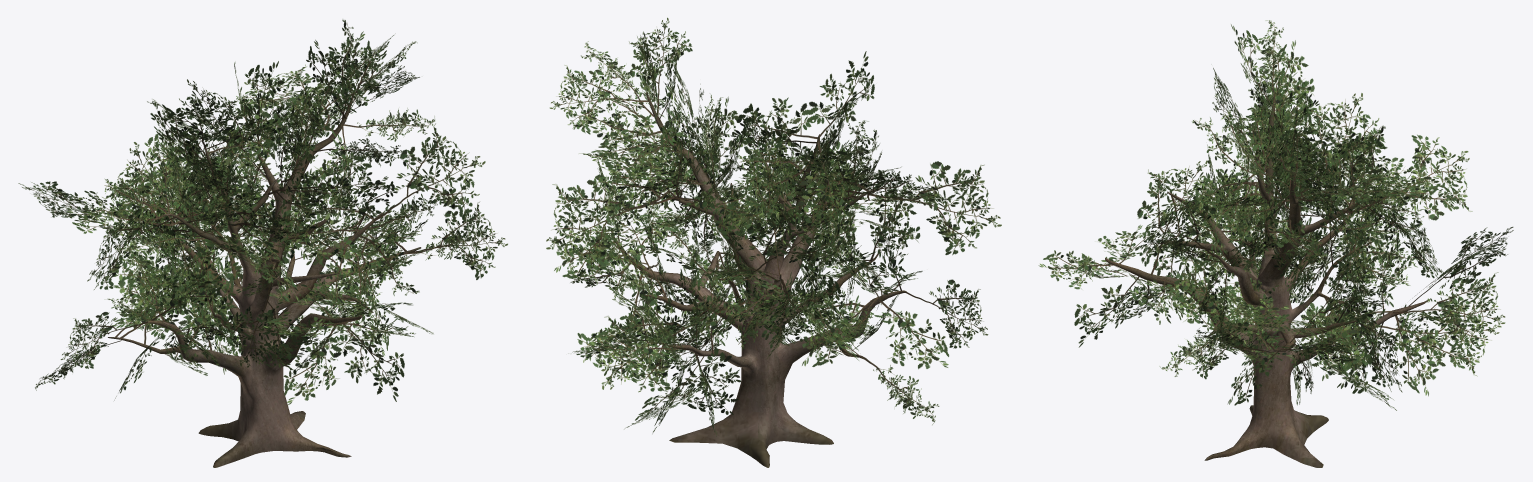
The model's file is oak_flat.glb.
The picture shows the model from 3 angles, left to right: view 1: azimuth 30°, elevation 25°; view 2: azimuth 150°, elevation 25°; view 3: azimuth 270°, elevation 25°; orthographic projection. The views are drawn at different scales.
Visible parts, largest first — view 1: oaktree_w; view 2: oaktree_w; view 3: oaktree_w.
Part boxes in pixels (bbox=[...]): oaktree_w: bbox=[18, 19, 507, 467]; oaktree_w: bbox=[546, 17, 1001, 467]; oaktree_w: bbox=[1038, 20, 1513, 467].
Size of the model in its own units: 12.38 by 11 by 12.61.
Materials: 2 (2 with a texture image).
